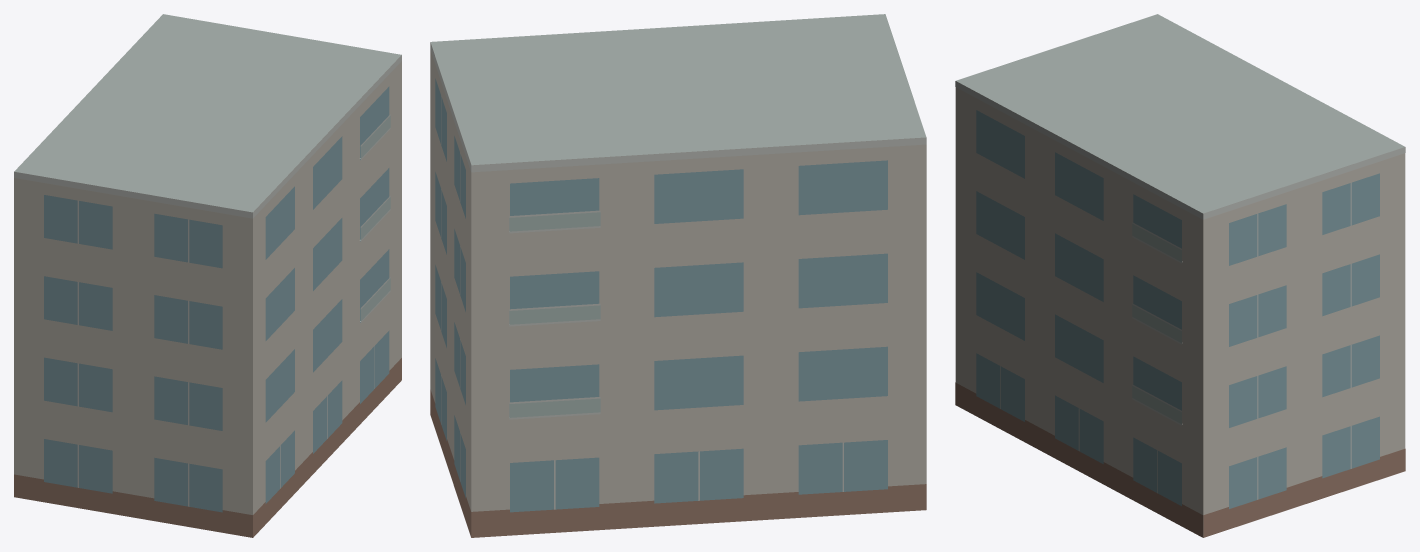
Rendered from survey-upis-32982042.glb.
The picture shows the model from 3 angles, left to right: view 1: azimuth 30°, elevation 25°; view 2: azimuth 150°, elevation 25°; view 3: azimuth 270°, elevation 25°; orthographic projection. The views are drawn at different scales.
Parts seen in each view (by area): view 1: survey-upis-32982042.tmp; view 2: survey-upis-32982042.tmp; view 3: survey-upis-32982042.tmp.
Part boxes in pixels (x1,y1,x2,y2): survey-upis-32982042.tmp: [14, 14, 401, 537]; survey-upis-32982042.tmp: [430, 14, 926, 537]; survey-upis-32982042.tmp: [955, 14, 1405, 537].
Bounding box in the file's own units: 16.91 × 12.8 × 16.1.
